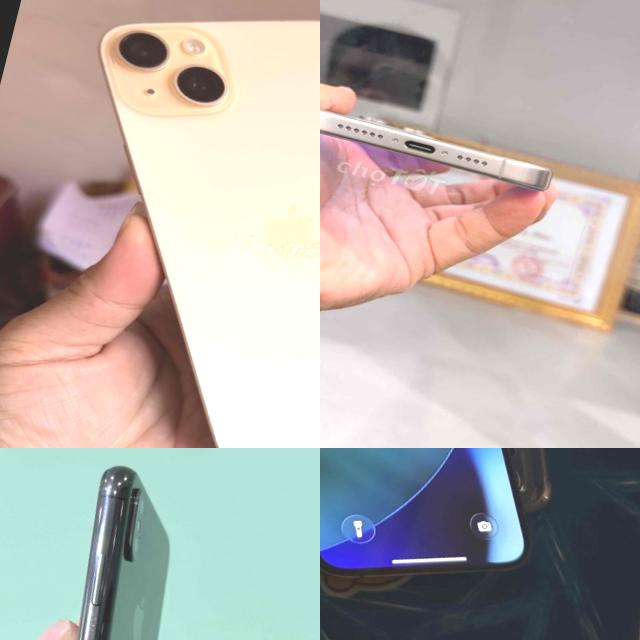gen_12_13: (320, 448, 601, 635)
gen_15: (7, 0, 320, 448), (320, 84, 574, 217)
gen_x_xs: (77, 466, 168, 640)
